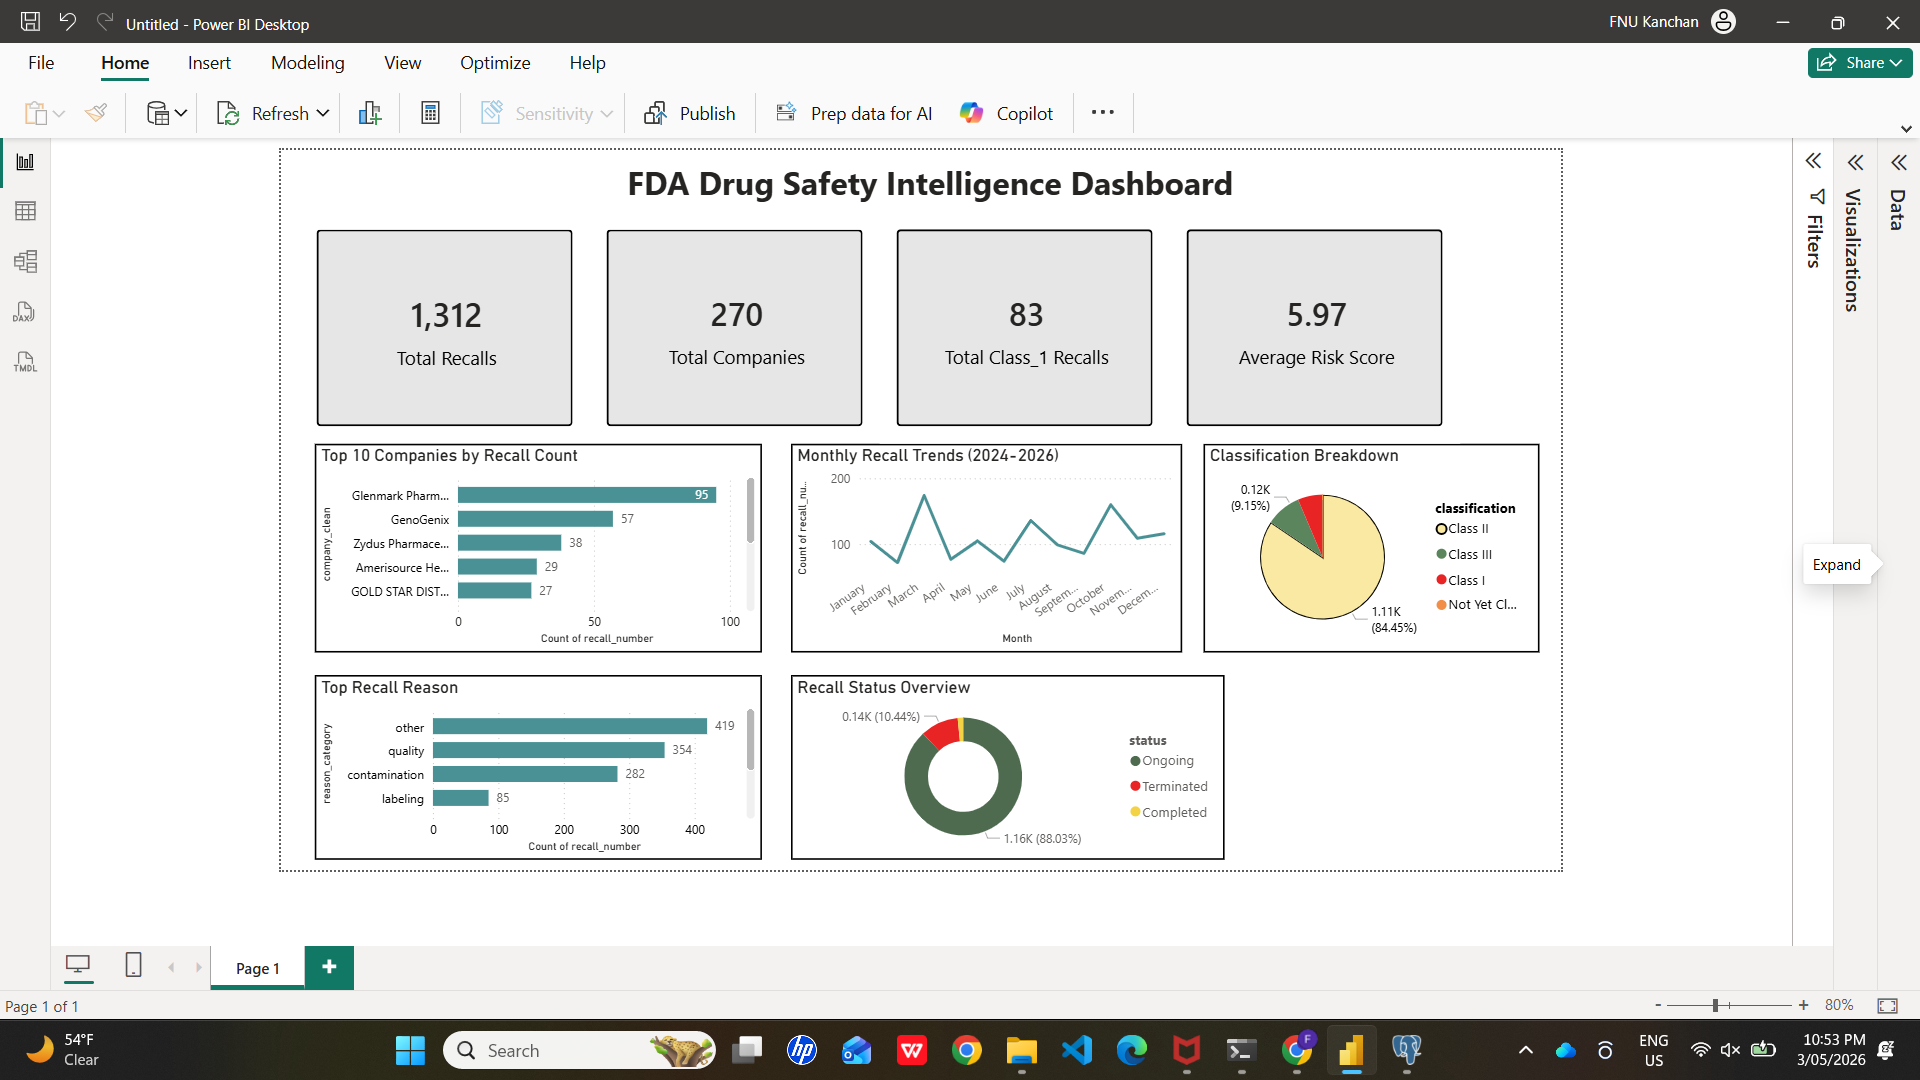

What the dashboard file says about the page in this screenshot:
{"tool":"powerbi","page":{"name":"Page 1","canvas":[1280,720],"ordinal":0},"visuals":[{"type":"cardVisual","fields":{"Data":["CountNonNull(public drug_recalls.recall_number)"]},"box":[61.7,52.1,279.9,279.9],"z":0},{"type":"cardVisual","fields":{"Data":["CountNonNull(public drug_recalls.recall_number)"]},"box":[18.8,62.5,290,231.2],"z":1000},{"type":"cardVisual","fields":{"Data":["Count(public company_recall_summary.company_clean)"]},"box":[308.8,62.5,290,231.2],"z":2000},{"type":"pieChart","title":"Classification Breakdown","fields":{"Category":["public drug_recalls.classification"],"Y":["CountNonNull(public drug_recalls.recall_number)"]},"box":[922.5,293.8,336.2,208.8],"z":3000},{"type":"clusteredBarChart","title":"Top 10 Companies by Recall Count","fields":{"Category":["public drug_recalls.company_clean"],"Y":["CountNonNull(public drug_recalls.recall_number)"]},"box":[33.8,293.8,447.5,208.8],"z":3001},{"type":"lineChart","title":"Monthly Recall Trends (2024-2026)","fields":{"Y":["CountNonNull(public drug_recalls.recall_number)"],"Category":["public drug_recalls.recall_initiation_date.Variation.Date Hierarchy.Year","public drug_recalls.recall_initiation_date.Variation.Date Hierarchy.Quarter","public drug_recalls.recall_initiation_date.Variation.Date Hierarchy.Month","public drug_recalls.recall_initiation_date.Variation.Date Hierarchy.Day"]},"box":[510,293.8,391.2,208.8],"z":3003},{"type":"textbox","box":[1051,51,229,233],"z":3004},{"type":"textbox","box":[18.8,6.2,1261.2,73.8],"z":3005},{"type":"cardVisual","fields":{"Data":["Sum(public company_recall_summary.class_1_recalls)"]},"box":[598.8,62.5,290,231.2],"z":3006},{"type":"cardVisual","fields":{"Data":["Avg(public drug_recalls.risk_score)"]},"box":[888.8,62.5,290,231.2],"z":3007},{"type":"clusteredBarChart","title":"Top Recall Reason","fields":{"Category":["public drug_recalls.reason_category"],"Y":["CountNonNull(public drug_recalls.recall_number)"]},"box":[33.8,525,447.5,185],"z":3008},{"type":"donutChart","title":"Recall Status Overview","fields":{"Category":["public drug_recalls.status"],"Y":["CountNonNull(public drug_recalls.recall_number)"]},"box":[510,525,433.8,185],"z":3009}]}

Visuals, with their boxes on the page's 1280x720 design canvas (x1, y1, x2, y2). These are canvas units, not pixel positions in the 1920x1080 screenshot, which may show the page scaled, cropped or inside an application window:
cardVisual - CountNonNull(public drug_recalls.recall_number): [62, 52, 342, 332]
cardVisual - CountNonNull(public drug_recalls.recall_number): [19, 62, 309, 294]
cardVisual - Count(public company_recall_summary.company_clean): [309, 62, 599, 294]
"Classification Breakdown" pieChart: [922, 294, 1259, 503]
"Top 10 Companies by Recall Count" clusteredBarChart: [34, 294, 481, 503]
"Monthly Recall Trends (2024-2026)" lineChart: [510, 294, 901, 503]
textbox: [1051, 51, 1280, 284]
textbox: [19, 6, 1280, 80]
cardVisual - Sum(public company_recall_summary.class_1_recalls): [599, 62, 889, 294]
cardVisual - Avg(public drug_recalls.risk_score): [889, 62, 1179, 294]
"Top Recall Reason" clusteredBarChart: [34, 525, 481, 710]
"Recall Status Overview" donutChart: [510, 525, 944, 710]
